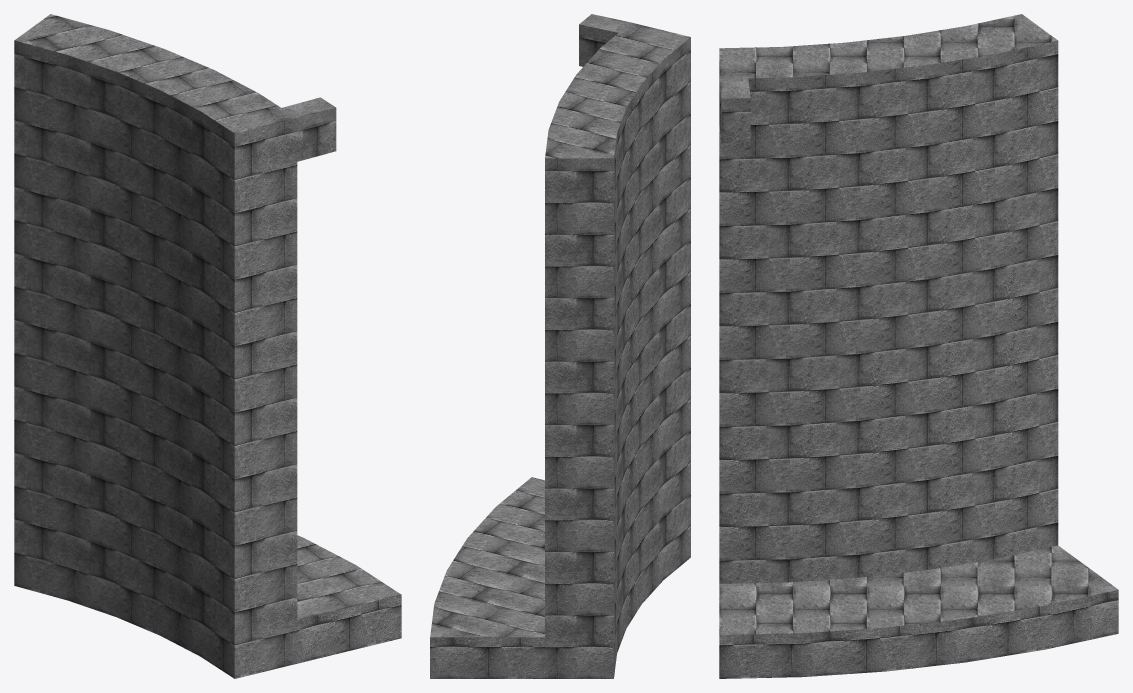
The model's file is tile0.dae.
3 renders of one model, left to right at view 1: azimuth 30°, elevation 25°; view 2: azimuth 150°, elevation 25°; view 3: azimuth 270°, elevation 25°, orthographic. The views are drawn at different scales.
Parts seen in each view (by area): view 1: SketchUp (×3); view 2: SketchUp (×2); view 3: SketchUp (×2).
Boxes of the visible parts, <box> form: SketchUp (×3): <box>14,14,401,678</box>; SketchUp (×2): <box>430,14,690,678</box>; SketchUp (×2): <box>719,14,1118,678</box>.
Bounding box in the file's own units: 44.68 × 64.96 × 98.43.
Materials: 1 (1 with a texture image).
